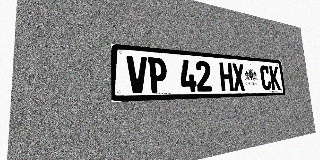2: (195, 60, 212, 92)
4: (179, 59, 197, 92)
C: (260, 65, 272, 90)
H: (219, 62, 234, 91)
K: (269, 66, 281, 90)
P: (148, 57, 168, 93)
V: (126, 55, 148, 93)
X: (232, 63, 246, 91)
